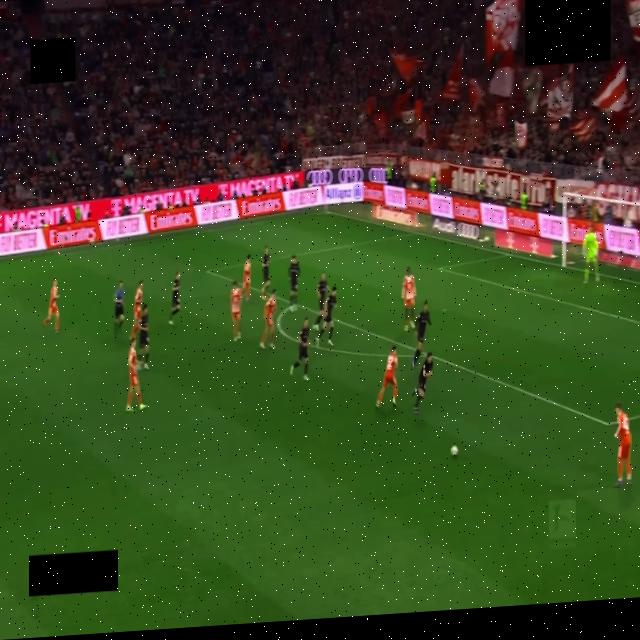ball: (451, 445, 459, 457)
player: (126, 337, 146, 412), (615, 403, 631, 486), (376, 346, 397, 407), (316, 287, 337, 346), (290, 318, 309, 380), (413, 352, 432, 413), (413, 302, 431, 366), (260, 290, 276, 349), (583, 226, 599, 283), (402, 268, 416, 331), (43, 277, 59, 332), (314, 273, 327, 330), (131, 280, 143, 337), (231, 281, 242, 341), (289, 255, 300, 311), (169, 271, 180, 325), (139, 304, 148, 369), (262, 246, 270, 294), (243, 254, 251, 301)
referee: (114, 281, 125, 333)
